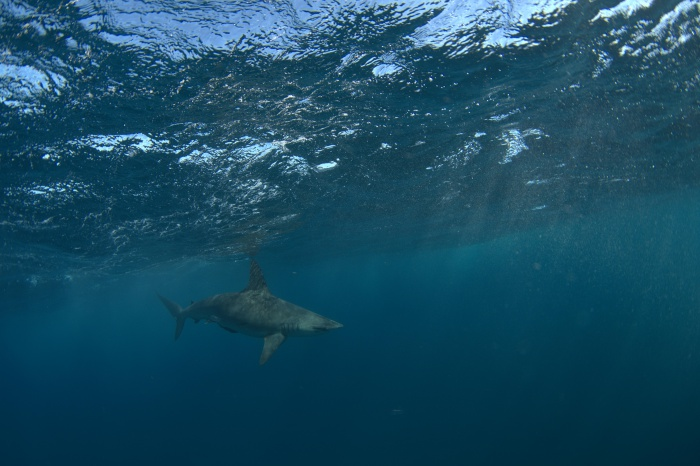Hammer: (144, 242, 357, 379)
